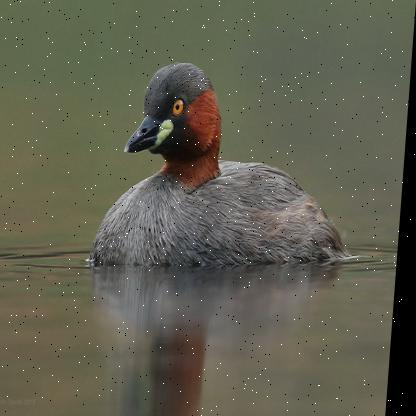Burung: (92, 61, 362, 260)
